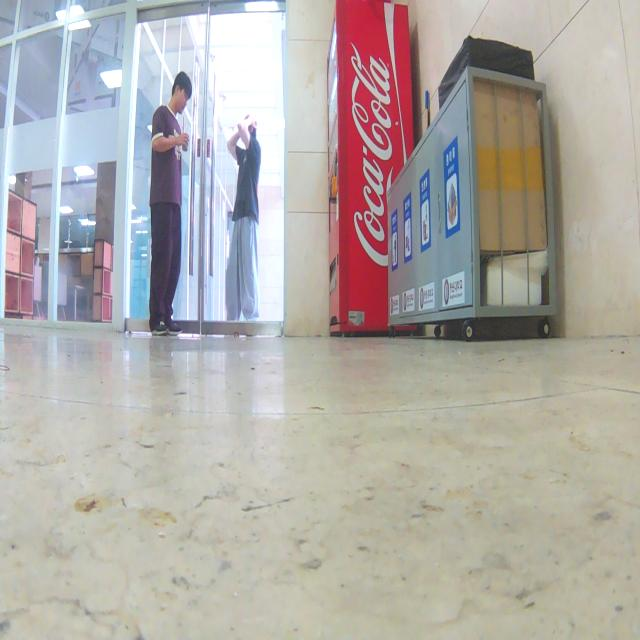target: (232, 322, 240, 342)
